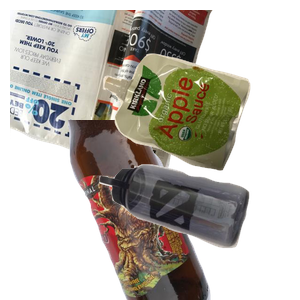glass: (65, 120, 300, 300)
paper: (10, 10, 215, 186)
plastic: (97, 162, 300, 300)
trash: (100, 51, 300, 214)
